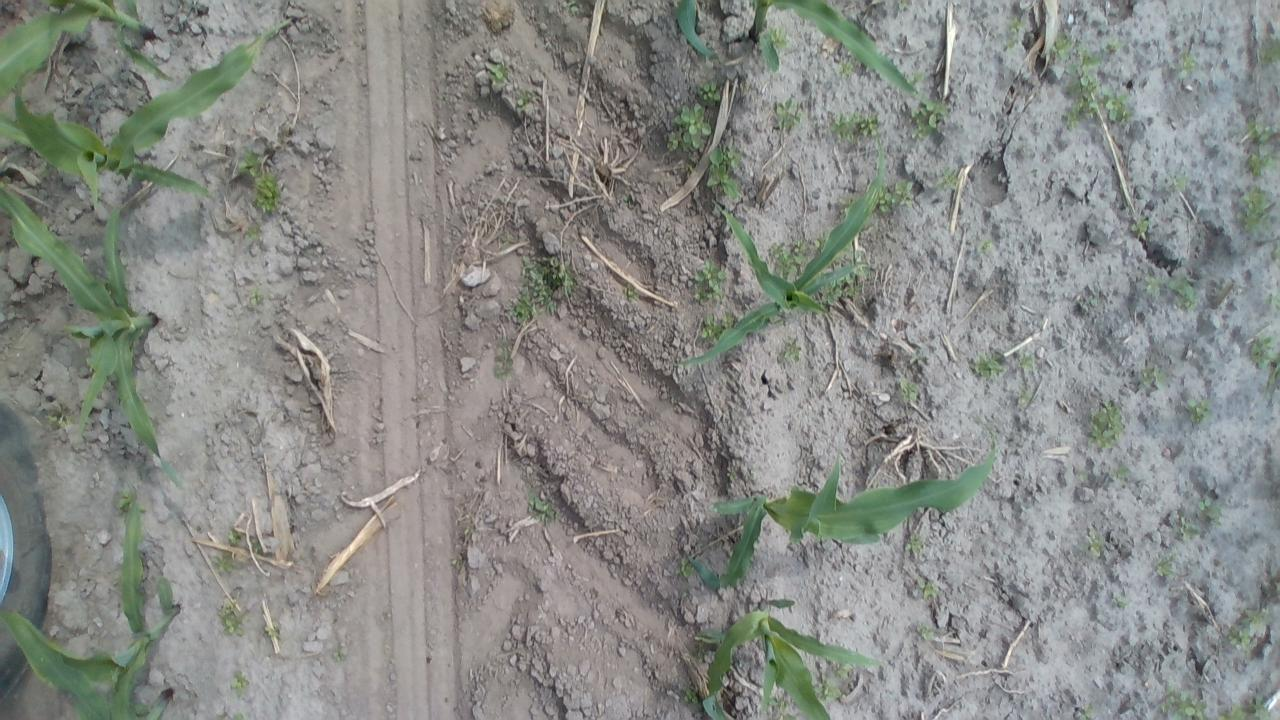Maize: (2, 9, 306, 214), (3, 178, 178, 488), (670, 135, 884, 369), (686, 434, 998, 588), (4, 500, 185, 719), (672, 0, 922, 103), (684, 598, 888, 720), (0, 0, 168, 104), (136, 686, 178, 720)
Weeds: (508, 250, 576, 326), (1063, 73, 1132, 128), (238, 146, 282, 215), (667, 102, 712, 154), (1088, 398, 1126, 450), (1235, 187, 1272, 233), (708, 146, 741, 197), (832, 109, 880, 142), (910, 98, 949, 138), (770, 240, 814, 274), (524, 486, 560, 526), (693, 259, 726, 302), (1163, 688, 1208, 719), (1161, 272, 1197, 310), (1220, 697, 1275, 719), (1248, 330, 1275, 374), (218, 599, 246, 637), (879, 180, 916, 208), (1244, 113, 1276, 144), (970, 352, 1006, 378), (774, 98, 803, 130), (1226, 626, 1255, 658), (1069, 47, 1103, 74), (1196, 494, 1224, 526), (824, 278, 860, 302), (1138, 364, 1166, 394), (1244, 150, 1276, 176), (1254, 31, 1278, 64), (1184, 395, 1212, 423), (817, 673, 843, 703), (1006, 15, 1028, 50), (1241, 605, 1269, 632), (1170, 49, 1196, 78), (698, 316, 726, 342), (1049, 31, 1073, 61), (938, 165, 964, 192), (765, 26, 789, 54), (489, 60, 512, 88), (1130, 214, 1154, 240), (1174, 514, 1198, 540), (494, 352, 516, 380), (700, 78, 724, 103), (210, 553, 236, 576), (779, 338, 802, 364), (1085, 530, 1106, 558), (46, 408, 70, 432), (898, 379, 921, 403), (902, 532, 926, 554), (230, 670, 250, 696), (117, 487, 136, 513), (1156, 554, 1176, 578), (916, 577, 936, 600), (1102, 36, 1124, 56), (1166, 169, 1186, 190), (835, 60, 857, 79), (676, 558, 696, 578), (1016, 350, 1036, 370), (1141, 274, 1159, 296), (244, 224, 264, 243), (906, 70, 926, 89), (916, 622, 934, 642), (1080, 294, 1098, 314), (976, 238, 994, 256), (684, 686, 701, 704), (264, 621, 280, 640), (516, 91, 532, 110), (622, 283, 638, 302), (855, 256, 870, 276), (839, 664, 856, 681), (838, 195, 854, 213), (1111, 466, 1128, 482), (1077, 704, 1096, 718), (1113, 594, 1129, 610), (228, 530, 244, 546), (332, 645, 348, 661), (248, 288, 262, 306), (1265, 291, 1277, 311), (565, 0, 582, 14), (450, 554, 464, 568), (1016, 388, 1030, 402), (894, 0, 908, 12), (234, 712, 248, 719)
